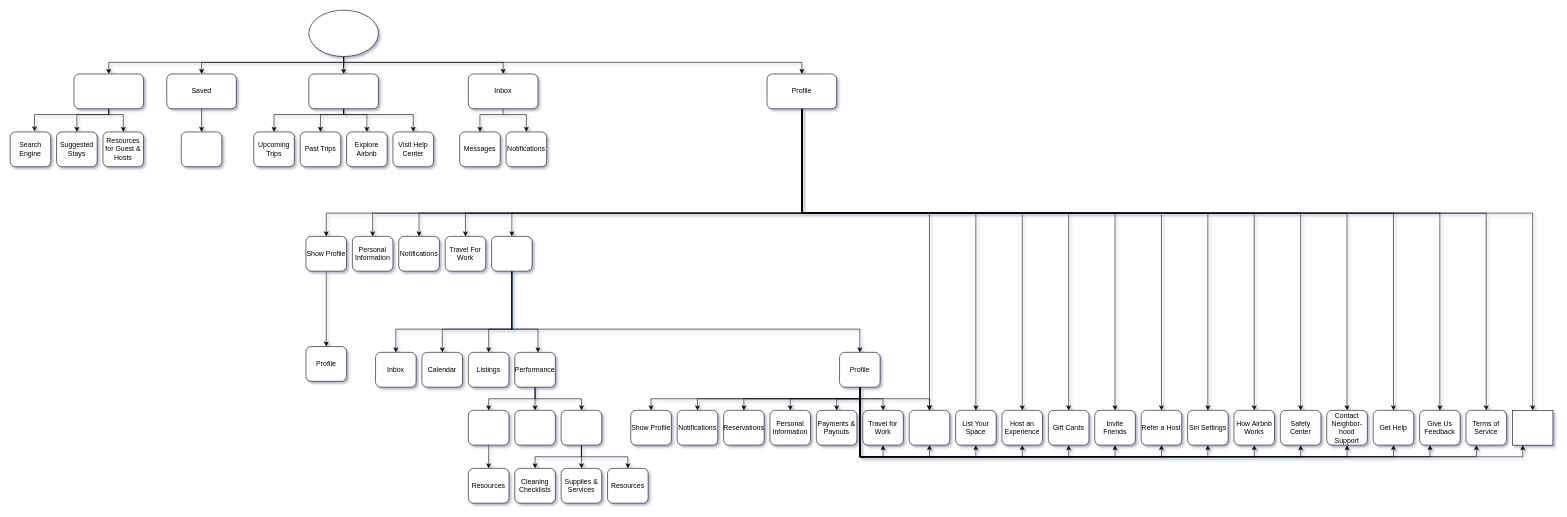
Image size: 1567x517. Some labels were removed from this diagram. The centre of each missing label's shape, as x and y in pixels:
"Airbnb App" belongs at pixel 343 33.
"Cleaning" belongs at pixel 581 427.
"Home / Explore" belongs at pixel 108 91.
"Log Out" belongs at pixel 1532 427.
"Opportunities" belongs at pixel 488 427.
"Stats" belongs at pixel 534 427.
"Switch to Hosting" belongs at pixel 511 253.
"Switch to Traveling" belongs at pixel 929 427.
"Trips" belongs at pixel 343 91.
"Your Saved Stays" belongs at pixel 201 149.
